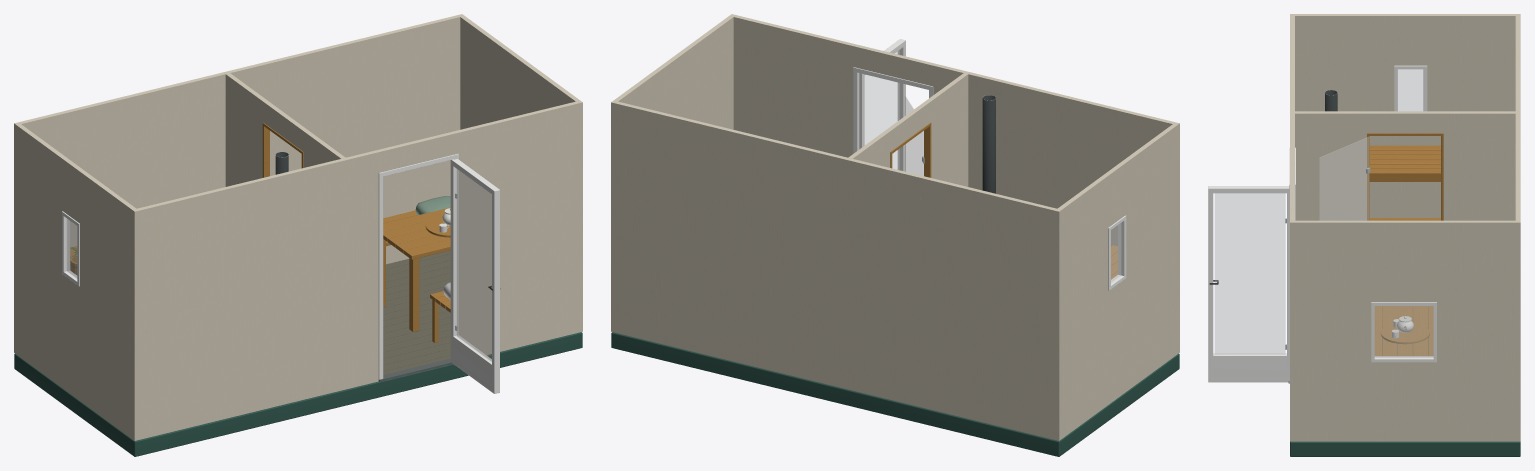
3 renders of one model, left to right at view 1: azimuth 30°, elevation 25°; view 2: azimuth 150°, elevation 25°; view 3: azimuth 270°, elevation 25°, orthographic. The views are drawn at different scales.
Visible parts, largest first — view 1: Wall front band 2, Wall front band 7, Wall rear band 7, Wall front band 5, Wall front band 4, Wall front band 6, Wall front band 1, Wall front band 8, Wall rear band 8, Wall rear band 6, Foundation, Wall rear band 5 (+25 smaller); view 2: Wall rear band 2, Wall rear band 7, Wall rear band 6, Wall rear band 5, Wall rear band 4, Wall rear band 1, Wall rear band 8, Wall front band 8, Foundation, Wall front band 7, Wall front band 6, Wall rear band 0 (+23 smaller); view 3: Single PVC glass panel, Wall right band 2, Wall right band 6, Wall right band 7, Wall left band 7, Wall right band 1, Wall left band 6, Wall right band 8, Wall v4_p15_top_1_0003 band 8, Wall left band 8, Wall right band 5, Wall right band 4 (+33 smaller).
Boxes of the visible parts, bbox=[...] form: Wall front band 2: bbox=[132, 253, 582, 396]; Wall front band 7: bbox=[132, 123, 582, 263]; Wall rear band 7: bbox=[14, 38, 460, 176]; Wall front band 5: bbox=[132, 186, 582, 326]; Wall front band 4: bbox=[132, 217, 582, 357]; Wall front band 6: bbox=[132, 154, 582, 294]; Wall front band 1: bbox=[132, 288, 582, 426]; Wall front band 8: bbox=[132, 100, 582, 232]; Wall rear band 8: bbox=[14, 14, 464, 145]; Wall rear band 6: bbox=[14, 69, 460, 208]; Foundation: bbox=[14, 332, 582, 456]; Wall rear band 5: bbox=[14, 100, 460, 239]; Wall rear band 2: bbox=[611, 253, 1061, 396]; Wall rear band 7: bbox=[611, 123, 1061, 263]; Wall rear band 6: bbox=[611, 154, 1061, 294]; Wall rear band 5: bbox=[611, 186, 1061, 326]; Wall rear band 4: bbox=[611, 217, 1061, 357]; Wall rear band 1: bbox=[611, 288, 1061, 426]; Wall rear band 8: bbox=[611, 100, 1061, 232]; Wall front band 8: bbox=[729, 14, 1179, 145]; Foundation: bbox=[611, 332, 1179, 456]; Wall front band 7: bbox=[733, 38, 1179, 176]; Wall front band 6: bbox=[733, 69, 1179, 208]; Wall rear band 0: bbox=[611, 317, 1061, 440]; Single PVC glass panel: bbox=[1215, 193, 1285, 354]; Wall right band 2: bbox=[1295, 367, 1515, 399]; Wall right band 6: bbox=[1295, 272, 1515, 302]; Wall right band 7: bbox=[1295, 242, 1515, 272]; Wall left band 7: bbox=[1295, 36, 1515, 65]; Wall right band 1: bbox=[1295, 400, 1515, 428]; Wall left band 6: bbox=[1295, 65, 1515, 95]; Wall right band 8: bbox=[1295, 220, 1515, 242]; Wall v4_p15_top_1_0003 band 8: bbox=[1295, 111, 1515, 133]; Wall left band 8: bbox=[1295, 14, 1515, 35]; Wall right band 5: bbox=[1295, 302, 1515, 332]; Wall right band 4: bbox=[1295, 332, 1515, 361].
Bounding box in the file's own units: 4.52 × 2.36 × 2.84.
Materials: 35 (15 with a texture image).
